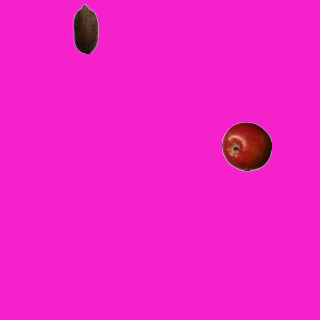Apple Braeburn: (221, 121, 271, 171)
Nut Pecan: (60, 3, 110, 53)
